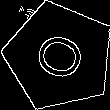O_SE: (26, 27, 92, 86)
